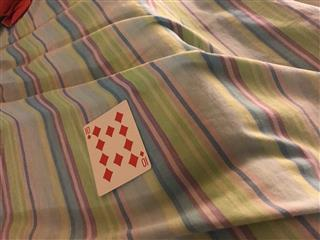TenOfDiamonds: (82, 98, 152, 197)
